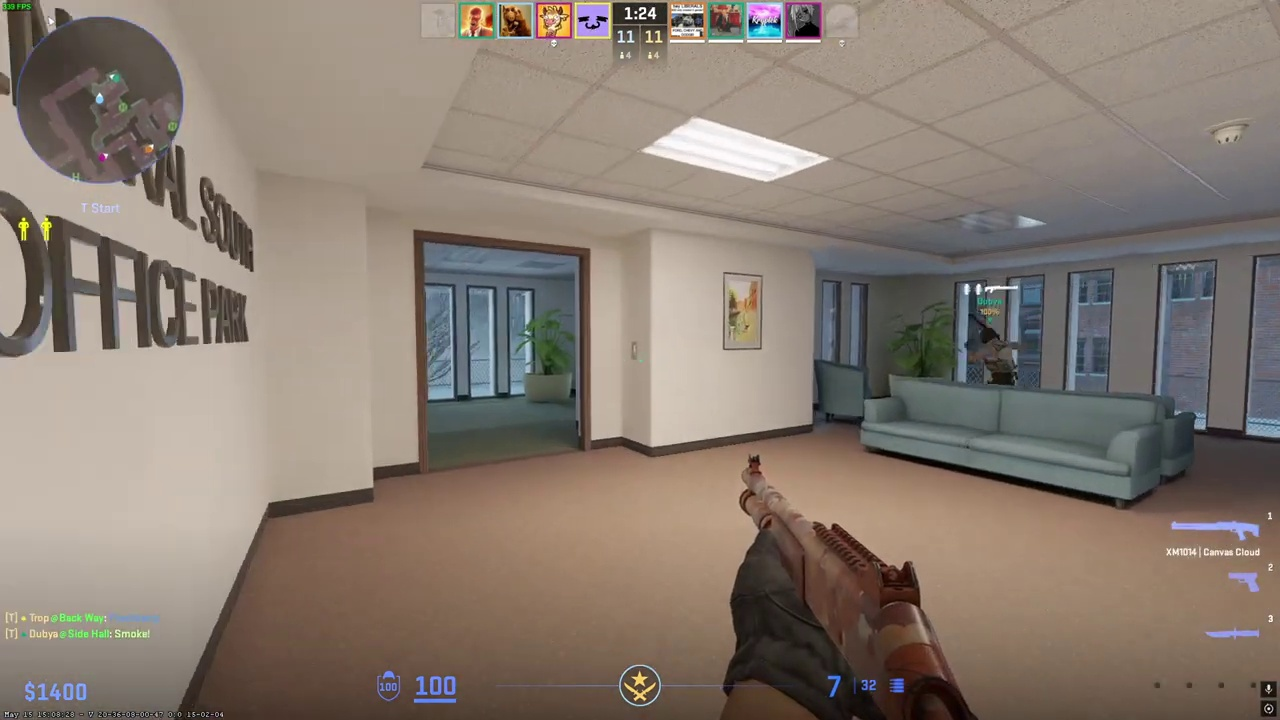Terrorist: (976, 327, 1017, 386)
